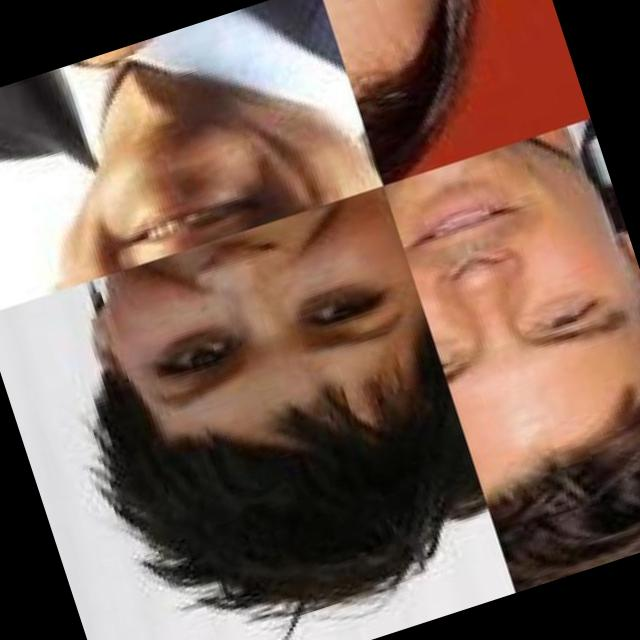bareface: (30, 35, 478, 583)
